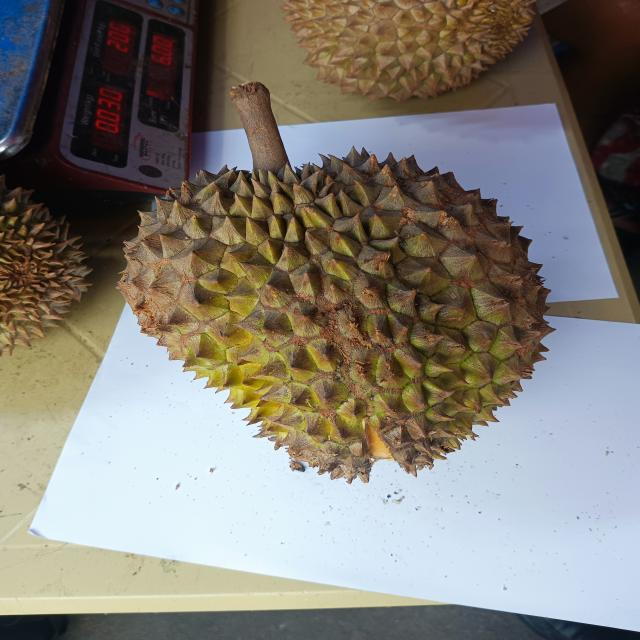defective: (114, 142, 550, 480)
mature: (277, 0, 536, 102), (2, 175, 96, 351)
